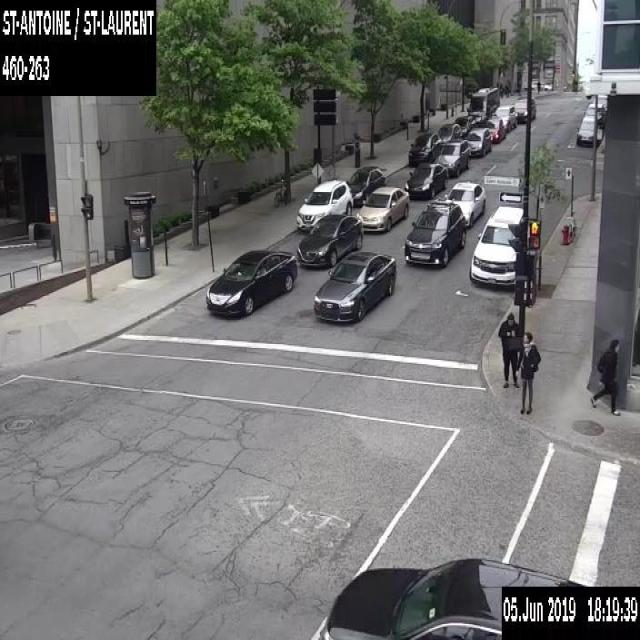construction: (310, 161, 322, 184)
pedestrian: (589, 337, 621, 416), (514, 329, 540, 415), (498, 311, 522, 387), (505, 82, 510, 97), (498, 82, 503, 97), (536, 79, 541, 93)
vehicle: (318, 554, 586, 638), (206, 249, 296, 315), (313, 250, 396, 320), (467, 204, 522, 291), (404, 200, 466, 265), (296, 212, 362, 266), (296, 179, 352, 230), (356, 185, 409, 231), (443, 181, 485, 227), (404, 161, 447, 198), (346, 165, 385, 205), (433, 137, 470, 176), (408, 132, 441, 166), (467, 86, 499, 117), (464, 126, 490, 156), (576, 115, 601, 144), (493, 104, 517, 132), (582, 102, 606, 127), (453, 115, 478, 137), (484, 116, 505, 142), (514, 97, 537, 120), (438, 122, 462, 141), (592, 94, 607, 112)
